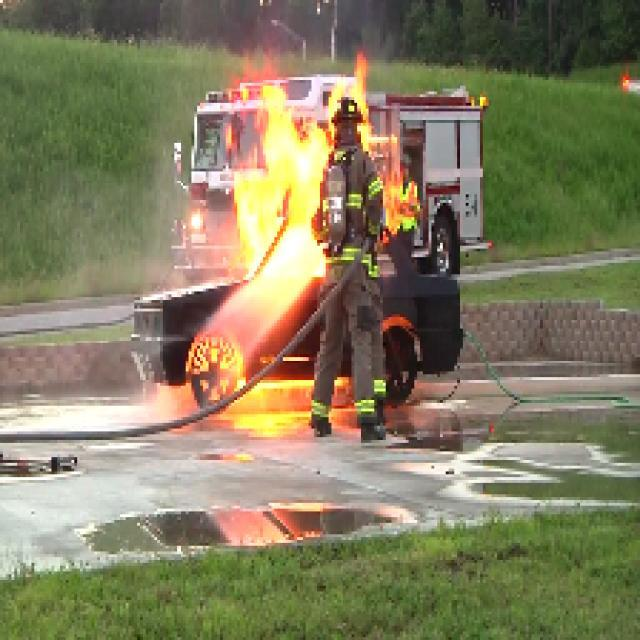Fire: (255, 89, 318, 264)
